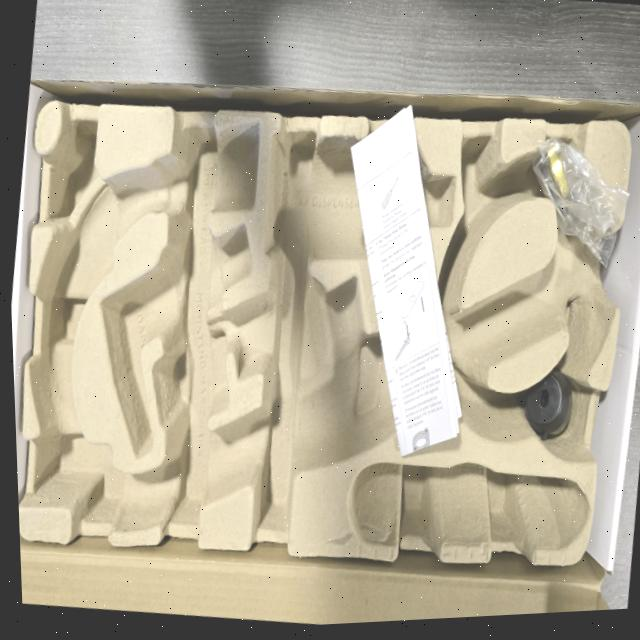1m: (33, 117, 625, 535)
2m: (101, 224, 251, 457)
3m: (267, 130, 458, 255)
4m: (350, 460, 588, 550)
5: (522, 369, 573, 441)
6: (533, 138, 629, 263)
7m: (450, 125, 521, 266)
8: (351, 100, 462, 461)
